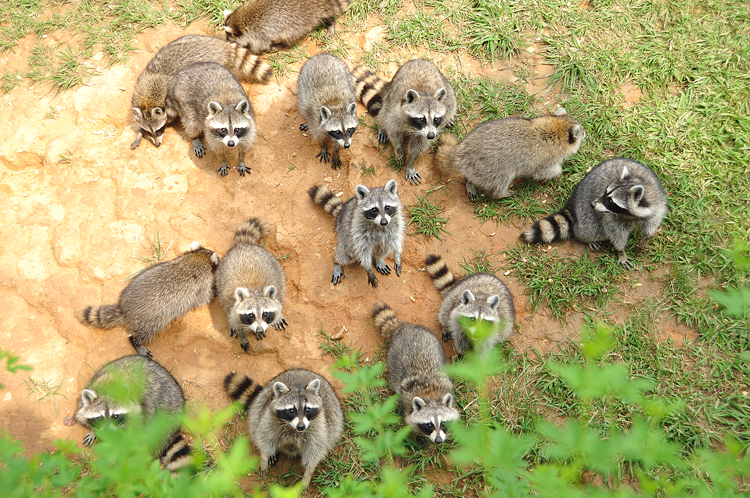raccoon: (68, 352, 202, 478), (523, 157, 681, 263), (218, 363, 353, 487), (364, 296, 468, 453), (355, 54, 464, 178), (212, 218, 304, 351), (166, 65, 270, 181), (309, 175, 409, 290), (420, 249, 526, 357), (283, 51, 364, 171)
